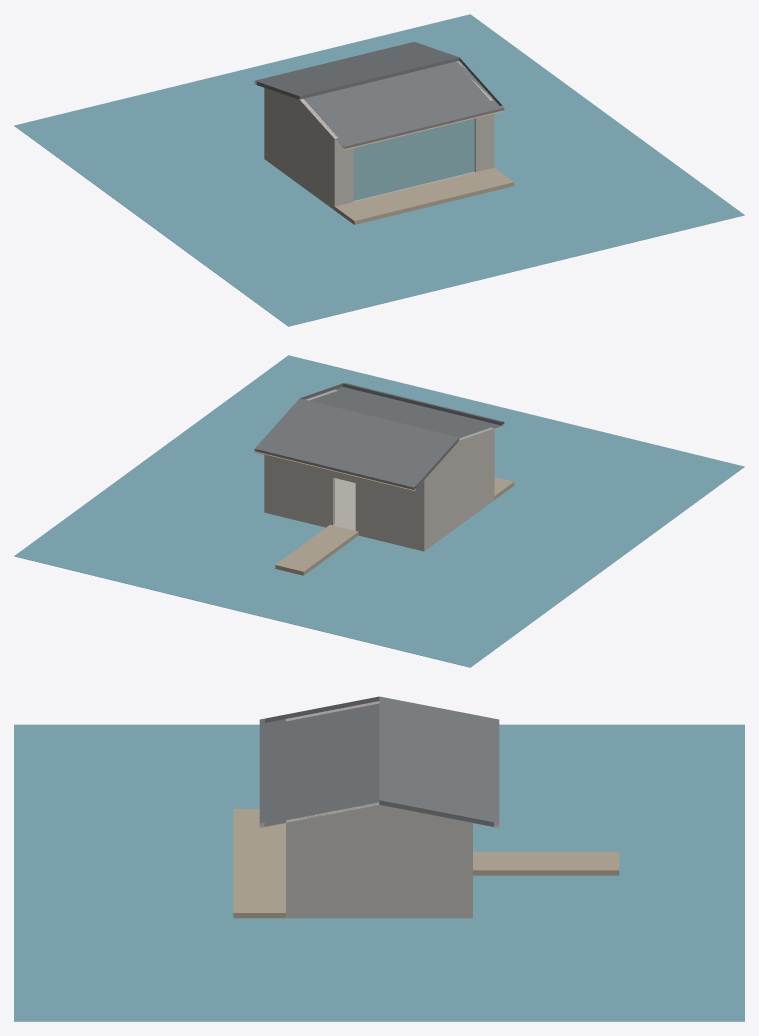
The model's file is an-nhien-g1-rev-c.glb.
3 views of the same model, one above another, from view 1: azimuth 30°, elevation 25°; view 2: azimuth 150°, elevation 25°; view 3: azimuth 270°, elevation 25° (orthographic). The views are drawn at different scales.
Parts seen in each view (by area): view 1: L01_WATER_PROXY, R01_ROOF_SHELL_S, A02_SIDE_WALL_W, R01_ROOF_SHELL_N, T01_TERRACE, G04_GLASS_MODULE, G01_GLASS_MODULE, G02_GLASS_MODULE, G03_GLASS_MODULE, A04_SOUTH_PIER_W, A04_SOUTH_PIER_E, A05_GABLE_W (+2 smaller); view 2: L01_WATER_PROXY, R01_ROOF_SHELL_N, A02_SIDE_WALL_W, R01_ROOF_SHELL_S, A03_NORTH_PIER_W, A03_NORTH_PIER_E, A01_FLOOR_SLAB, B01_NORTH_BRIDGE_PROXY, A05_GABLE_W, R03_GUTTER_FLASHING_N; view 3: L01_WATER_PROXY, A02_SIDE_WALL_E, R01_ROOF_SHELL_N, R01_ROOF_SHELL_S, T01_TERRACE, B01_NORTH_BRIDGE_PROXY, A05_GABLE_E, A01_FLOOR_SLAB, R03_GUTTER_FLASHING_N, R03_GUTTER_FLASHING_S.
Boxes of the visible parts, x1,y1,x2,y2 form: L01_WATER_PROXY: (14,14,744,326); R01_ROOF_SHELL_S: (300,57,501,147); A02_SIDE_WALL_W: (264,89,338,206); R01_ROOF_SHELL_N: (256,42,459,99); T01_TERRACE: (334,167,514,224); G04_GLASS_MODULE: (444,118,474,178); G01_GLASS_MODULE: (353,141,383,200); G02_GLASS_MODULE: (383,133,413,193); G03_GLASS_MODULE: (413,126,443,186); A04_SOUTH_PIER_W: (332,138,353,205); A04_SOUTH_PIER_E: (474,114,494,172); A05_GABLE_W: (266,88,337,138); L01_WATER_PROXY: (14,355,744,667); R01_ROOF_SHELL_N: (257,398,459,488); A02_SIDE_WALL_W: (420,430,494,547); R01_ROOF_SHELL_S: (300,383,502,438); A03_NORTH_PIER_W: (355,477,426,546); A03_NORTH_PIER_E: (264,455,334,525); A01_FLOOR_SLAB: (264,478,494,551); B01_NORTH_BRIDGE_PROXY: (275,524,358,575); A05_GABLE_W: (426,427,493,478); R03_GUTTER_FLASHING_N: (255,446,415,487); L01_WATER_PROXY: (14,724,744,1021); A02_SIDE_WALL_E: (286,822,472,912); R01_ROOF_SHELL_N: (379,696,493,826); R01_ROOF_SHELL_S: (265,696,379,826); T01_TERRACE: (233,809,285,918); B01_NORTH_BRIDGE_PROXY: (473,851,619,875); A05_GABLE_E: (286,802,471,822); A01_FLOOR_SLAB: (286,913,472,918); R03_GUTTER_FLASHING_N: (494,718,499,823); R03_GUTTER_FLASHING_S: (259,718,264,823).
Size of the model in its own units: 24 by 4.71 by 25.
